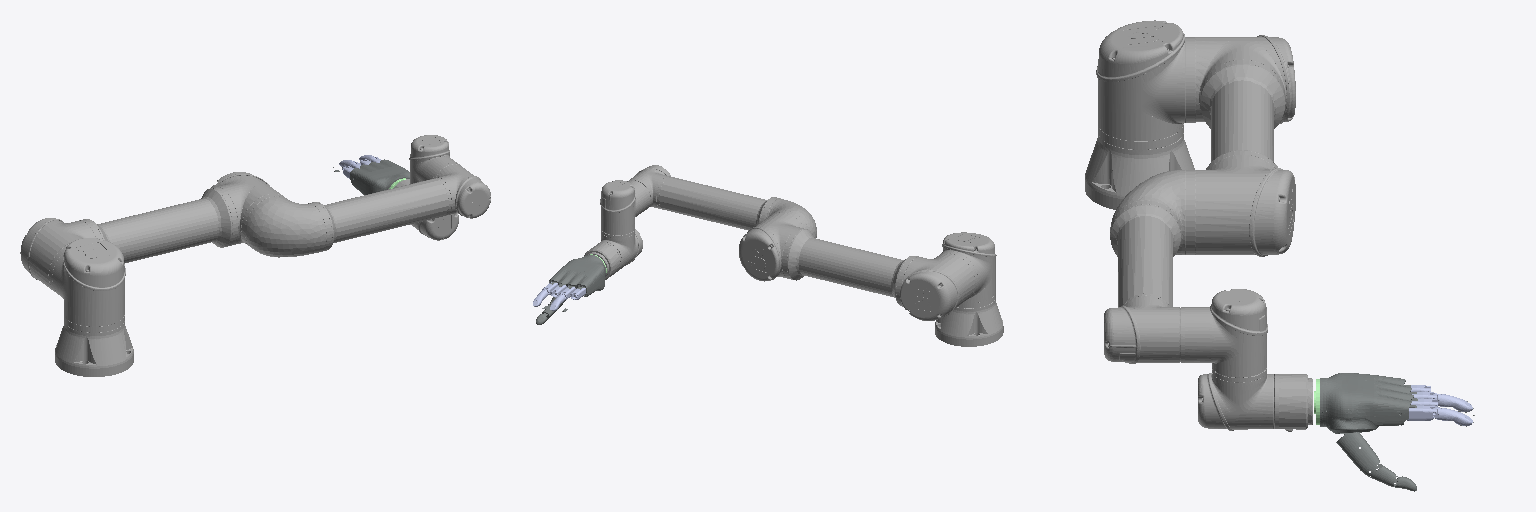
--- Render facts (derived) ---
3 views of the same robot in one strip: view 1: azimuth 30°, elevation 25°; view 2: azimuth 150°, elevation 25°; view 3: azimuth 270°, elevation 25° (orthographic).
Model ur5e with 36 links and 35 joints (16 revolute, 19 fixed), rooted at base_link, posed every joint at zero.
Visible links, largest first — view 1: forearm_link, upper_arm_link, shoulder_link, base_link, wrist_1_link, l_p_link1, wrist_2_link; view 2: upper_arm_link, forearm_link, base_link, wrist_1_link, shoulder_link, l_p_link1, wrist_2_link, wrist_3_link; view 3: upper_arm_link, forearm_link, shoulder_link, wrist_1_link, base_link, l_p_link1, wrist_2_link, wrist_3_link, l_f_link1_2.
Link boxes in pixels (x1,y1,x2,y2): forearm_link: (245, 163, 490, 257); upper_arm_link: (20, 172, 286, 291); shoulder_link: (49, 238, 125, 325); base_link: (55, 315, 133, 376); wrist_1_link: (409, 135, 459, 183); l_p_link1: (350, 159, 409, 194); wrist_2_link: (410, 213, 458, 240); upper_arm_link: (739, 210, 974, 320); forearm_link: (627, 165, 816, 237); base_link: (935, 292, 1003, 346); wrist_1_link: (600, 180, 648, 237); shoulder_link: (940, 232, 996, 302); l_p_link1: (549, 255, 605, 296); wrist_2_link: (598, 229, 642, 271); wrist_3_link: (584, 243, 620, 279); upper_arm_link: (1185, 35, 1295, 256); forearm_link: (1104, 170, 1184, 363); shoulder_link: (1096, 20, 1195, 140); wrist_1_link: (1185, 289, 1267, 382); base_link: (1085, 124, 1194, 209); l_p_link1: (1320, 373, 1413, 433); wrist_2_link: (1198, 373, 1278, 430); wrist_3_link: (1279, 374, 1312, 431); l_f_link1_2: (1336, 432, 1381, 476).
Size in the robot's own frame: 0.9663 by 0.5275 by 0.2739 metres.
Meshes: 35 distinct files referenced, 33 mesh visuals loaded (26 binary STL, 7 OBJ); not drawn: 2 (reference not matched to a file when rendering).

URDF robot description (ur5e):
<?xml version="1.0" encoding="utf-8"?>
<!-- =================================================================================== -->
<!-- |    This document was autogenerated by xacro from ur5e_robot.urdf.xacro          | -->
<!-- |    EDITING THIS FILE BY HAND IS NOT RECOMMENDED                                 | -->
<!-- =================================================================================== -->
<robot name="ur5e" xmlns:xacro="http://ros.org/wiki/xacro">
  <link name="base_link">
    <visual>
      <geometry>
        <mesh filename="../meshes/ur5e/visual/base.obj"/>
      </geometry>
      <material name="LightGrey">
        <color rgba="0.7 0.7 0.7 1.0"/>
      </material>
    </visual>
    <collision>
      <geometry>
        <mesh filename="../meshes/ur5e/collision/base.stl" scale="1.0 1.0 1.0"/>
      </geometry>
    </collision>
    <inertial>
      <mass value="4.0"/>
      <origin rpy="0 0 0" xyz="0.0 0.0 0.0"/>
      <inertia ixx="0.00443333156" ixy="0.0" ixz="0.0" iyy="0.00443333156" iyz="0.0" izz="0.0072"/>
    </inertial>
  </link>
  <joint name="shoulder_pan_joint" type="revolute">
    <parent link="base_link"/>
    <child link="shoulder_link"/>
    <origin rpy="0.0 0.0 0.0" xyz="0.0 0.0 0.163"/>
    <axis xyz="0 0 1"/>
    <limit effort="150.0" lower="-6.28318530718" upper="6.28318530718" velocity="3.14"/>
    <dynamics damping="0.0" friction="0.0"/>
  </joint>
  <link name="shoulder_link">
    <visual>
      <geometry>
        <mesh filename="../meshes/ur5e/visual/shoulder.obj"/>
      </geometry>
      <material name="LightGrey">
        <color rgba="0.7 0.7 0.7 1.0"/>
      </material>
    </visual>
    <collision>
      <geometry>
        <mesh filename="../meshes/ur5e/collision/shoulder.stl" scale="1.0 1.0 1.0"/>
      </geometry>
    </collision>
    <inertial>
      <mass value="3.7"/>
      <origin rpy="0 0 0" xyz="0.0 0.0 0.0"/>
      <inertia ixx="0.010267495893" ixy="0.0" ixz="0.0" iyy="0.010267495893" iyz="0.0" izz="0.00666"/>
    </inertial>
  </link>
  <joint name="shoulder_lift_joint" type="revolute">
    <parent link="shoulder_link"/>
    <child link="upper_arm_link"/>
    <origin rpy="0.0 1.57079632679 0.0" xyz="0.0 0.138 0.0"/>
    <axis xyz="0 1 0"/>
    <limit effort="150.0" lower="-6.28318530718" upper="6.28318530718" velocity="3.14"/>
    <dynamics damping="0.0" friction="0.0"/>
  </joint>
  <link name="upper_arm_link">
    <visual>
      <geometry>
        <mesh filename="../meshes/ur5e/visual/upperarm.obj"/>
      </geometry>
      <material name="LightGrey">
        <color rgba="0.7 0.7 0.7 1.0"/>
      </material>
    </visual>
    <collision>
      <geometry>
        <mesh filename="../meshes/ur5e/collision/upperarm.stl" scale="1.0 1.0 1.0"/>
      </geometry>
    </collision>
    <inertial>
      <mass value="8.393"/>
      <origin rpy="0 0 0" xyz="0.0 0.0 0.2125"/>
      <inertia ixx="0.133885781862" ixy="0.0" ixz="0.0" iyy="0.133885781862" iyz="0.0" izz="0.0151074"/>
    </inertial>
  </link>
  <joint name="elbow_joint" type="revolute">
    <parent link="upper_arm_link"/>
    <child link="forearm_link"/>
    <origin rpy="0.0 0.0 0.0" xyz="0.0 -0.131 0.425"/>
    <axis xyz="0 1 0"/>
    <limit effort="150.0" lower="-3.14159265359" upper="3.14159265359" velocity="3.14"/>
    <dynamics damping="0.0" friction="0.0"/>
  </joint>
  <link name="forearm_link">
    <visual>
      <geometry>
        <mesh filename="../meshes/ur5e/visual/forearm.obj"/>
      </geometry>
      <material name="LightGrey">
        <color rgba="0.7 0.7 0.7 1.0"/>
      </material>
    </visual>
    <collision>
      <geometry>
        <mesh filename="../meshes/ur5e/collision/forearm.stl" scale="1.0 1.0 1.0"/>
      </geometry>
    </collision>
    <inertial>
      <mass value="2.275"/>
      <origin rpy="0 0 0" xyz="0.0 0.0 0.196"/>
      <inertia ixx="0.0311796208615" ixy="0.0" ixz="0.0" iyy="0.0311796208615" iyz="0.0" izz="0.004095"/>
    </inertial>
  </link>
  <joint name="wrist_1_joint" type="revolute">
    <parent link="forearm_link"/>
    <child link="wrist_1_link"/>
    <origin rpy="0.0 1.57079632679 0.0" xyz="0.0 0.0 0.392"/>
    <axis xyz="0 1 0"/>
    <limit effort="28.0" lower="-6.28318530718" upper="6.28318530718" velocity="6.28"/>
    <dynamics damping="0.0" friction="0.0"/>
  </joint>
  <link name="wrist_1_link">
    <visual>
      <geometry>
        <mesh filename="../meshes/ur5e/visual/wrist1.obj"/>
      </geometry>
      <material name="LightGrey">
        <color rgba="0.7 0.7 0.7 1.0"/>
      </material>
    </visual>
    <collision>
      <geometry>
        <mesh filename="../meshes/ur5e/collision/wrist1.stl" scale="1.0 1.0 1.0"/>
      </geometry>
    </collision>
    <inertial>
      <mass value="1.219"/>
      <origin rpy="0 0 0" xyz="0.0 0.127 0.0"/>
      <inertia ixx="0.00255989897604" ixy="0.0" ixz="0.0" iyy="0.00255989897604" iyz="0.0" izz="0.0021942"/>
    </inertial>
  </link>
  <joint name="wrist_2_joint" type="revolute">
    <parent link="wrist_1_link"/>
    <child link="wrist_2_link"/>
    <origin rpy="0.0 0.0 0.0" xyz="0.0 0.127 0.0"/>
    <axis xyz="0 0 1"/>
    <limit effort="28.0" lower="-6.28318530718" upper="6.28318530718" velocity="6.28"/>
    <dynamics damping="0.0" friction="0.0"/>
  </joint>
  <link name="wrist_2_link">
    <visual>
      <geometry>
        <mesh filename="../meshes/ur5e/visual/wrist2.obj"/>
      </geometry>
      <material name="LightGrey">
        <color rgba="0.7 0.7 0.7 1.0"/>
      </material>
    </visual>
    <collision>
      <geometry>
        <mesh filename="../meshes/ur5e/collision/wrist2.stl" scale="1.0 1.0 1.0"/>
      </geometry>
    </collision>
    <inertial>
      <mass value="1.219"/>
      <origin rpy="0 0 0" xyz="0.0 0.0 0.1"/>
      <inertia ixx="0.00255989897604" ixy="0.0" ixz="0.0" iyy="0.00255989897604" iyz="0.0" izz="0.0021942"/>
    </inertial>
  </link>
  <joint name="wrist_3_joint" type="revolute">
    <parent link="wrist_2_link"/>
    <child link="wrist_3_link"/>
    <origin rpy="0.0 0.0 0.0" xyz="0.0 0.0 0.1"/>
    <axis xyz="0 1 0"/>
    <limit effort="28.0" lower="-6.28318530718" upper="6.28318530718" velocity="6.28"/>
    <dynamics damping="0.0" friction="0.0"/>
  </joint>
  <link name="wrist_3_link">
    <visual>
      <geometry>
        <mesh filename="../meshes/ur5e/visual/wrist3.obj"/>
      </geometry>
      <material name="LightGrey">
        <color rgba="0.7 0.7 0.7 1.0"/>
      </material>
    </visual>
    <collision>
      <geometry>
        <mesh filename="../meshes/ur5e/collision/wrist3.stl" scale="1.0 1.0 1.0"/>
      </geometry>
    </collision>
    <inertial>
      <mass value="0.1879"/>
      <origin rpy="1.57079632679 0 0" xyz="0.0 0.0771 0.0"/>
      <inertia ixx="9.89041005217e-05" ixy="0.0" ixz="0.0" iyy="9.89041005217e-05" iyz="0.0" izz="0.0001321171875"/>
    </inertial>
  </link>
  <joint name="catch_joint" type="fixed">
    <parent link="wrist_3_link"/>
    <child link="catch_link"/>
    <origin rpy="-1.5708 -1.5708 0.0" xyz="-0.035 0.28 0.05"/>
  </joint>
  <link
    name="catch_link">
    <inertial>
      <origin
        xyz="1.72456640981644E-10 0.000159743547726118 0.08240409197629"
        rpy="0 0 0" />
      <mass
        value="0.0" />
      <inertia
        ixx="4.77814014865034E-06"
        ixy="-2.82870930251957E-15"
        ixz="-1.75792865858176E-14"
        iyy="4.84927762663746E-06"
        iyz="4.47414433687867E-09"
        izz="9.23717647630549E-06" />
    </inertial>
  </link>
  <joint name="ee_fixed_joint" type="fixed">
    <parent link="wrist_3_link"/>
    <child link="base_world"/>
    <origin rpy="-1.5708 -1.5708 0.0" xyz="0.0 0.1 0.0"/>
  </joint>
  <link
    name="base_world">
    <inertial>
      <origin
        xyz="1.72456640981644E-10 0.000159743547726118 0.00658240409197629"
        rpy="0 0 0" />
      <mass
        value="0.0176998254464378" />
      <inertia
        ixx="4.77814014865034E-06"
        ixy="-2.82870930251957E-15"
        ixz="-1.75792865858176E-14"
        iyy="4.84927762663746E-06"
        iyz="4.47414433687867E-09"
        izz="9.23717647630549E-06" />
    </inertial>
    <visual>
      <origin
        xyz="0 0 0"
        rpy="0 0 0" />
      <geometry>
        <mesh
          filename="../meshes/freedom_left_hand/base_world.STL" />
      </geometry>
      <material
        name="">
        <color
          rgba="0.752941176470588 1 0.752941176470588 1" />
      </material>
    </visual>
    <collision>
      <origin
        xyz="0 0 0"
        rpy="0 0 0" />
      <geometry>
        <mesh
          filename="../meshes/freedom_left_hand/base_world.STL" />
      </geometry>
    </collision>
  </link>
  <link
    name="l_p_link1">
    <inertial>
      <origin
        xyz="-0.000806915097913388 0.00388610492410939 0.0525721443149127"
        rpy="0 0 0" />
      <mass
        value="3.09350498276967" />
      <inertia
        ixx="0.00483124658716066"
        ixy="-0.000120079243986953"
        ixz="2.76998390224128E-05"
        iyy="0.00363360625607334"
        iyz="0.000130624066350774"
        izz="0.00244702121244642" />
    </inertial>
    <visual>
      <origin
        xyz="0 0 0"
        rpy="0 0 0" />
      <geometry>
        <mesh
          filename="../meshes/freedom_left_hand/l_p_link1.STL" />
      </geometry>
      <material
        name="">
        <color
          rgba="0.529411764705882 0.549019607843137 0.549019607843137 1" />
      </material>
    </visual>
    <collision>
      <origin
        xyz="0 0 0"
        rpy="0 0 0" />
      <geometry>
        <mesh
          filename="../meshes/freedom_left_hand/l_p_link1.STL" />
      </geometry>
    </collision>
  </link>
  <joint
    name="l_p_joint1"
    type="fixed">
    <origin
      xyz="0 0 0.009"
      rpy="0 0 0" />
    <parent
      link="base_world" />
    <child
      link="l_p_link1" />
    <axis
      xyz="0 0 0" />
  </joint>
  <link
    name="l_f_link1_1">
    <inertial>
      <origin
        xyz="0.00145106596791297 0.000219748765094941 -0.00094878677214999"
        rpy="0 0 0" />
      <mass
        value="0.022937939198734" />
      <inertia
        ixx="1.34683615212935E-06"
        ixy="-2.07746757263643E-08"
        ixz="7.89788135056471E-08"
        iyy="1.55245542916721E-06"
        iyz="2.67848642354461E-08"
        izz="1.39334328734015E-06" />
    </inertial>
    <visual>
      <origin
        xyz="0 0 0"
        rpy="0 0 0" />
      <geometry>
        <mesh
          filename="../meshes/freedom_left_hand/l_f_link1_1.STL" />
      </geometry>
      <material
        name="">
        <color
          rgba="0.529411764705882 0.549019607843137 0.549019607843137 1" />
      </material>
    </visual>
    <collision>
      <origin
        xyz="0 0 0"
        rpy="0 0 0" />
      <geometry>
        <mesh
          filename="../meshes/freedom_left_hand/l_f_link1_1.STL" />
      </geometry>
    </collision>
  </link>
  <joint
    name="l_f_joint_1"
    type="revolute">
    <origin
      xyz="0.0019629 -0.02666 0.037173"
      rpy="-1.571 0.029 0" />
    <parent
      link="l_p_link1" />
    <child
      link="l_f_link1_1" />
    <axis
      xyz="0 0 -1" />
    <limit
      lower="-0.4363"
      upper="0.43663"
      effort="10"
      velocity="1.5" />
  </joint>
  <link
    name="l_f_link1_2">
    <inertial>
      <origin
        xyz="-0.0368460622630162 0.017183676037241 0.0161136820216997"
        rpy="0 0 0" />
      <mass
        value="0.345446868480597" />
      <inertia
        ixx="8.74993953311003E-05"
        ixy="2.80158941029215E-05"
        ixz="4.42492535344589E-05"
        iyy="0.000134460477920373"
        iyz="-2.06512048636184E-05"
        izz="0.00010376701557648" />
    </inertial>
    <visual>
      <origin
        xyz="0 0 0"
        rpy="0 0 0" />
      <geometry>
        <mesh
          filename="../meshes/freedom_left_hand/l_f_link1_2.STL" />
      </geometry>
      <material
        name="">
        <color
          rgba="0.529411764705882 0.549019607843137 0.549019607843137 1" />
      </material>
    </visual>
    <collision>
      <origin
        xyz="0 0 0"
        rpy="0 0 0" />
      <geometry>
        <mesh
          filename="../meshes/freedom_left_hand/l_f_link1_2.STL" />
      </geometry>
    </collision>
  </link>
  <joint
    name="l_f_joint1_2"
    type="revolute">
    <origin
      xyz="0.010999 0 -0.001747"
      rpy="-1.5711 0 -3.1415" />
    <parent
      link="l_f_link1_1" />
    <child
      link="l_f_link1_2" />
    <axis
      xyz="0 0 1" />
    <limit
      lower="0"
      upper="1.3786"
      effort="10"
      velocity="1.5" />
  </joint>
  <link
    name="l_f_link1_3">
    <inertial>
      <origin
        xyz="0.0131235626729575 -0.00699500868701408 -8.9237181345736E-08"
        rpy="0 0 0" />
      <mass
        value="0.078728188790909" />
      <inertia
        ixx="4.50755666538291E-06"
        ixy="-6.41444224863096E-07"
        ixz="1.82882144130032E-11"
        iyy="7.81737857211279E-06"
        iyz="1.40812459242875E-10"
        izz="7.87618818286551E-06" />
    </inertial>
    <visual>
      <origin
        xyz="0 0 0"
        rpy="0 0 0" />
      <geometry>
        <mesh
          filename="../meshes/freedom_left_hand/l_f_link1_3.STL" />
      </geometry>
      <material
        name="">
        <color
          rgba="0.529411764705882 0.549019607843137 0.549019607843137 1" />
      </material>
    </visual>
    <collision>
      <origin
        xyz="0 0 0"
        rpy="0 0 0" />
      <geometry>
        <mesh
          filename="../meshes/freedom_left_hand/l_f_link1_3.STL" />
      </geometry>
    </collision>
  </link>
  <joint
    name="l_f_joint1_3"
    type="revolute">
    <origin
      xyz="-0.055719 0.025991 0.045109"
      rpy="1.5705 -0.97818 2.705" />
    <parent
      link="l_f_link1_2" />
    <child
      link="l_f_link1_3" />
    <axis
      xyz="0 0 1" />
    <limit
      lower="0"
      upper="0.4537"
      effort="10"
      velocity="1.5" />
  </joint>
  <link
    name="l_f_link1_4">
    <inertial>
      <origin
        xyz="0.013033720128292 0.00392465793829972 4.5317859458105E-08"
        rpy="0 0 0" />
      <mass
        value="0.0492559673669118" />
      <inertia
        ixx="1.83221779789421E-06"
        ixy="-2.9201248351923E-08"
        ixz="-2.11636247722758E-11"
        iyy="4.14827455404067E-06"
        iyz="1.82172753188615E-12"
        izz="3.86182594285045E-06" />
    </inertial>
    <visual>
      <origin
        xyz="0 0 0"
        rpy="0 0 0" />
      <geometry>
        <mesh
          filename="../meshes/freedom_left_hand/l_f_link1_4.STL" />
      </geometry>
      <material
        name="">
        <color
          rgba="0.529411764705882 0.549019607843137 0.549019607843137 1" />
      </material>
    </visual>
    <collision>
      <origin
        xyz="0 0 0"
        rpy="0 0 0" />
      <geometry>
        <mesh
          filename="../meshes/freedom_left_hand/l_f_link1_4.STL" />
      </geometry>
    </collision>
  </link>
  <joint
    name="l_f_joint1_4"
    type="revolute">
    <origin
      xyz="0.030304 -0.0075957 0"
      rpy="0 0 0.31426" />
    <parent
      link="l_f_link1_3" />
    <child
      link="l_f_link1_4" />
    <axis
      xyz="0 0 1" />
    <limit
      lower="0"
      upper="1.2564"
      effort="10"
      velocity="1.5" />
  </joint>
  <link
    name="l_f_link1_tip">
    <inertial>
      <origin
        xyz="3.91226984142179E-09 1.70995220066805E-09 -1.01224686965828E-09"
        rpy="0 0 0" />
      <mass
        value="5.6447341057417E-05" />
      <inertia
        ixx="3.25134583690636E-11"
        ixy="-1.5841832868675E-16"
        ixz="-1.07509600156021E-15"
        iyy="3.25128233421681E-11"
        iyz="4.30353188750191E-16"
        izz="3.25146782213451E-11" />
    </inertial>
    <visual>
      <origin
        xyz="0 0 0"
        rpy="0 0 0" />
      <geometry>
        <mesh
          filename="../meshes/freedom_left_hand/l_f_link1_tip.STL" />
      </geometry>
      <material
        name="">
        <color
          rgba="0.529411764705882 0.549019607843137 0.549019607843137 1" />
      </material>
    </visual>
    <collision>
      <origin
        xyz="0 0 0"
        rpy="0 0 0" />
      <geometry>
        <mesh
          filename="../meshes/freedom_left_hand/l_f_link1_tip.STL" />
      </geometry>
    </collision>
  </link>
  <joint
    name="l_f_joint1_tip"
    type="fixed">
    <origin
      xyz="0.030638 0 0"
      rpy="0 0 0" />
    <parent
      link="l_f_link1_4" />
    <child
      link="l_f_link1_tip" />
    <axis
      xyz="0 0 0" />
  </joint>
  <link
    name="l_f_link1_pad">
    <inertial>
      <origin
        xyz="1.66533453693773E-16 5.55111512312578E-17 -2.77555756156289E-17"
        rpy="0 0 0" />
      <mass
        value="0.000748799999999945" />
      <inertia
        ixx="4.05599999999982E-09"
        ixy="2.54358038360056E-22"
        ixz="5.11818004017186E-23"
        iyy="1.29791999999998E-08"
        iyz="1.00709239578331E-22"
        izz="9.04800000000008E-09" />
    </inertial>
    <visual>
      <origin
        xyz="0 0 0"
        rpy="0 0 0" />
      <geometry>
        <mesh
          filename="../meshes/freedom_left_hand/l_f_link1_pad.STL" />
      </geometry>
      <material
        name="">
        <color
          rgba="0.529411764705882 0.549019607843137 0.549019607843137 1" />
      </material>
    </visual>
    <collision>
      <origin
        xyz="0 0 0"
        rpy="0 0 0" />
      <geometry>
        <mesh
          filename="../meshes/freedom_left_hand/l_f_link1_pad.STL" />
      </geometry>
    </collision>
  </link>
  <joint
    name="l_f_joint1_pad"
    type="fixed">
    <origin
      xyz="0.02058 0.010335 0"
      rpy="0 0 -0.36591" />
    <parent
      link="l_f_link1_4" />
    <child
      link="l_f_link1_pad" />
    <axis
      xyz="0 0 0" />
  </joint>
  <link
    name="l_f_link2_1">
    <inertial>
      <origin
        xyz="0.00431549531692989 -3.59544548608464E-05 -0.000293519581500933"
        rpy="0 0 0" />
      <mass
        value="0.01220067525638" />
      <inertia
        ixx="1.76157556392802E-07"
        ixy="-1.18013880311547E-11"
        ixz="5.1258189712677E-08"
        iyy="6.86901221323969E-07"
        iyz="-5.70496565074483E-13"
        izz="6.04592917607103E-07" />
    </inertial>
    <visual>
      <origin
        xyz="0 0 0"
        rpy="0 0 0" />
      <geometry>
        <mesh
          filename="../meshes/freedom_left_hand/l_f_link2_1.STL" />
      </geometry>
      <material
        name="">
        <color
          rgba="0.529411764705882 0.549019607843137 0.549019607843137 1" />
      </material>
    </visual>
    <collision>
      <origin
        xyz="0 0 0"
        rpy="0 0 0" />
      <geometry>
        <mesh
          filename="../meshes/freedom_left_hand/l_f_link2_1.STL" />
      </geometry>
    </collision>
  </link>
  <joint
    name="l_f_joint2_1"
    type="revolute">
    <origin
      xyz="-0.0011606 -0.030771 0.11518"
      rpy="-0.67227 -1.5707 -2.4693" />
    <parent
      link="l_p_link1" />
    <child
      link="l_f_link2_1" />
    <axis
      xyz="0 0 1" />
    <limit
      lower="-0.1745"
      upper="0.1745"
      effort="10"
      velocity="1.5" />
  </joint>
  <link
    name="l_f_link2_2">
    <inertial>
      <origin
        xyz="0.0104118354940775 0.000536686610706071 -1.76713780573878E-07"
        rpy="0 0 0" />
      <mass
        value="0.0784310054996294" />
      <inertia
        ixx="3.68968904398342E-06"
        ixy="3.62846908121159E-07"
        ixz="2.16090077469993E-10"
        iyy="1.11655087077363E-05"
        iyz="-8.17126072188099E-11"
        izz="1.1188037862303E-05" />
    </inertial>
    <visual>
      <origin
        xyz="0 0 0"
        rpy="0 0 0" />
      <geometry>
        <mesh
          filename="../meshes/freedom_left_hand/l_f_link2_2.STL" />
      </geometry>
      <material
        name="">
        <color
          rgba="0.792156862745098 0.819607843137255 0.933333333333333 1" />
      </material>
    </visual>
    <collision>
      <origin
        xyz="0 0 0"
        rpy="0 0 0" />
      <geometry>
        <mesh
          filename="../meshes/freedom_left_hand/l_f_link2_2.STL" />
      </geometry>
    </collision>
  </link>
  <joint
    name="l_f_joint2_2"
    type="revolute">
    <origin
      xyz="0.007 0 0.0021"
      rpy="1.5708 0 0" />
    <parent
      link="l_f_link2_1" />
    <child
      link="l_f_link2_2" />
    <axis
      xyz="0 0 1" />
    <limit
      lower="0"
      upper="1.396"
      effort="10"
      velocity="1.5" />
  </joint>
  <link
    name="l_f_link2_3">
    <inertial>
      <origin
        xyz="0.025404689382244 -0.00109883030595305 -1.01316054048955E-05"
        rpy="0 0 0" />
      <mass
        value="0.0416865010250188" />
      <inertia
        ixx="1.97988408622401E-06"
        ixy="2.09083172696518E-06"
        ixz="-5.69823390084998E-09"
        iyy="1.00738033109099E-05"
        iyz="1.73153963015829E-09"
        izz="1.02474545462262E-05" />
    </inertial>
    <visual>
      <origin
        xyz="0 0 0"
        rpy="0 0 0" />
      <geometry>
        <mesh
          filename="../meshes/freedom_left_hand/l_f_link2_3.STL" />
      </geometry>
      <material
        name="">
        <color
          rgba="0.792156862745098 0.819607843137255 0.933333333333333 1" />
      </material>
    </visual>
    <collision>
      <origin
        xyz="0 0 0"
        rpy="0 0 0" />
      <geometry>
        <mesh
          filename="../meshes/freedom_left_hand/l_f_link2_3.STL" />
      </geometry>
    </collision>
  </link>
  <joint
    name="l_f_joint2_3"
    type="revolute">
    <origin
      xyz="0.032003 -0.0025 0"
      rpy="0 0 0.41015" />
    <parent
      link="l_f_link2_2" />
    <child
      link="l_f_link2_3" />
    <axis
      xyz="0 0 1" />
    <limit
      lower="0"
      upper="1.204"
      effort="10"
      velocity="1.5" />
  </joint>
  <link
    name="l_f_link2_tip">
    <inertial>
      <origin
        xyz="0.0452244833923307 0.110484490001511 0.00293860794572562"
        rpy="0 0 0" />
      <mass
        value="5.6447341057416E-05" />
      <inertia
        ixx="3.25129638536437E-11"
        ixy="3.8289381727335E-16"
        ixz="2.73941092259011E-16"
        iyy="3.25143730607903E-11"
        iyz="1.24937363097556E-15"
        izz="3.25136661866213E-11" />
    </inertial>
    <visual>
      <origin
        xyz="0 0 0"
        rpy="0 0 0" />
      <geometry>
        <mesh
          filename="../meshes/freedom_left_hand/l_f_link2_tip.STL" />
      </geometry>
      <material
        name="">
        <color
          rgba="0.529411764705882 0.549019607843137 0.549019607843137 1" />
      </material>
    </visual>
    <collision>
      <origin
        xyz="0 0 0"
        rpy="0 0 0" />
      <geometry>
        <mesh
          filename="../meshes/freedom_left_hand/l_f_link2_tip.STL" />
      </geometry>
    </collision>
  </link>
  <joint
    name="l_f_joint2_tip"
    type="fixed">
    <origin
      xyz="0.018194 0.10294 -0.037012"
      rpy="2.7196 0.1164 -0.12757" />
    <parent
      link="l_f_link2_3" />
    <child
      link="l_f_link2_tip" />
    <axis
      xyz="0 0 0" />
  </joint>
  <link
    name="l_f_link2_pad">
    <inertial>
      <origin
        xyz="1.38777878078145E-16 3.81639164714898E-17 -5.20417042793042E-18"
        rpy="0 0 0" />
      <mass
        value="0.000748799999999951" />
      <inertia
        ixx="4.05599999999972E-09"
        ixy="-3.4638188150658E-24"
        ixz="2.60044905071358E-23"
        iyy="1.29791999999987E-08"
        iyz="-9.92616735063633E-24"
        izz="9.04799999999891E-09" />
    </inertial>
    <visual>
      <origin
        xyz="0 0 0"
        rpy="0 0 0" />
      <geometry>
        <mesh
          filename="../meshes/freedom_left_hand/l_f_link2_pad.STL" />
      </geometry>
      <material
        name="">
        <color
          rgba="0.529411764705882 0.549019607843137 0.549019607843137 1" />
      </material>
    </visual>
    <collision>
      <origin
        xyz="0 0 0"
        rpy="0 0 0" />
      <geometry>
        <mesh
          filename="../meshes/freedom_left_hand/l_f_link2_pad.STL" />
      </geometry>
    </collision>
  </link>
  <joint
    name="l_f_joint2_pad"
    type="fixed">
    <origin
      xyz="0.0431768806103101 0.00346826424137609 1.9226932202532E-05"
      rpy="0 0 -0.24108798729853" />
    <parent
      link="l_f_link2_3" />
    <child
      link="l_f_link2_pad" />
    <axis
      xyz="0 0 0" />
  </joint>
  <link
    name="l_f_link3_1">
    <inertial>
      <origin
        xyz="0.00431549531692993 -3.59544548608516E-05 -0.000293519581500951"
        rpy="0 0 0" />
      <mass
        value="0.01220067525638" />
      <inertia
        ixx="1.76157556392802E-07"
        ixy="-1.18013880316022E-11"
        ixz="5.12581897126789E-08"
        iyy="6.86901221323972E-07"
        iyz="-5.70496565180362E-13"
        izz="6.04592917607106E-07" />
    </inertial>
    <visual>
      <origin
        xyz="0 0 0"
        rpy="0 0 0" />
      <geometry>
        <mesh
          filename="../meshes/freedom_left_hand/l_f_link3_1.STL" />
      </geometry>
      <material
        name="">
        <color
          rgba="0.529411764705882 0.549019607843137 0.549019607843137 1" />
      </material>
    </visual>
    <collision>
      <origin
        xyz="0 0 0"
        rpy="0 0 0" />
      <geometry>
        <mesh
          filename="../meshes/freedom_left_hand/l_f_link3_1.STL" />
      </geometry>
    </collision>
  </link>
  <joint
    name="l_f_joint3_1"
    type="revolute">
    <origin
      xyz="-0.0011607 -0.0087207 0.11685"
      rpy="-0.67227 -1.5707 -2.4693" />
    <parent
      link="l_p_link1" />
    <child
      link="l_f_link3_1" />
    <axis
      xyz="0 0 1" />
    <limit
      lower="-0.1745"
      upper="0.1745"
      effort="10"
      velocity="1.5" />
  </joint>
  <link
    name="l_f_link3_2">
    <inertial>
      <origin
        xyz="0.010411835494077 0.000536686610706187 -1.76713780653676E-07"
        rpy="0 0 0" />
      <mass
        value="0.0784310054996272" />
      <inertia
        ixx="3.68968904398335E-06"
        ixy="3.62846908120986E-07"
        ixz="2.16090077595063E-10"
        iyy="1.11655087077355E-05"
        iyz="-8.171260723448E-11"
        izz="1.11880378623021E-05" />
    </inertial>
    <visual>
      <origin
        xyz="0 0 0"
        rpy="0 0 0" />
      <geometry>
        <mesh
          filename="../meshes/freedom_left_hand/l_f_link3_2.STL" />
      </geometry>
      <material
        name="">
        <color
          rgba="0.792156862745098 0.819607843137255 0.933333333333333 1" />
      </material>
    </visual>
    <collision>
      <origin
        xyz="0 0 0"
        rpy="0 0 0" />
      <geometry>
        <mesh
          filename="../meshes/freedom_left_hand/l_f_link3_2.STL" />
      </geometry>
    </collision>
  </link>
  <joint
    name="l_f_joint3_2"
    type="revolute">
    <origin
      xyz="0.007 0 0.0021"
      rpy="1.5708 0 0" />
    <parent
      link="l_f_link3_1" />
    <child
      link="l_f_link3_2" />
    <axis
      xyz="0 0 1" />
    <limit
      lower="0"
      upper="1.396"
      effort="10"
      velocity="1.5" />
  </joint>
  <link
    name="l_f_link3_3">
    <inertial>
      <origin
        xyz="0.025404499507523 -0.0010985839475919 -1.00898087224272E-05"
        rpy="0 0 0" />
      <mass
        value="0.0416860671235266" />
      <inertia
        ixx="1.97985984534454E-06"
        ixy="2.09080814722245E-06"
        ixz="-5.67363921634989E-09"
        iyy="1.00738960204226E-05"
        iyz="1.70737051604018E-09"
        izz="1.02474421944146E-05" />
    </inertial>
    <visual>
      <origin
        xyz="0 0 0"
        rpy="0 0 0" />
      <geometry>
        <mesh
          filename="../meshes/freedom_left_hand/l_f_link3_3.STL" />
      </geometry>
      <material
        name="">
        <color
          rgba="0.792156862745098 0.819607843137255 0.933333333333333 1" />
      </material>
    </visual>
    <collision>
      <origin
        xyz="0 0 0"
        rpy="0 0 0" />
      <geometry>
        <mesh
          filename="../meshes/freedom_left_hand/l_f_link3_3.STL" />
      </geometry>
    </collision>
  </link>
  <joint
    name="l_f_joint3_3"
    type="revolute">
    <origin
      xyz="0.032003 -0.0025 0"
      rpy="0 0 0.41015" />
    <parent
      link="l_f_link3_2" />
    <child
      link="l_f_link3_3" />
    <axis
      xyz="0 0 1" />
    <limit
      lower="0"
      upper="1.204"
      effort="10"
      velocity="1.5" />
  </joint>
  <link
    name="l_f_link3_tip">
    <inertial>
      <origin
        xyz="-2.69951164200144E-08 -2.10908379649766E-09 5.39488918815945E-10"
        rpy="0 0 0" />
      <mass
        value="5.64473410574171E-05" />
      <inertia
        ixx="3.25128781384403E-11"
        ixy="-9.63510103474837E-17"
        ixz="-2.43875542347979E-17"
        iyy="3.25152508484689E-11"
        iyz="6.24021630882816E-16"
        izz="3.25128741141497E-11" />
    </inertial>
    <visual>
      <origin
        xyz="0 0 0"
        rpy="0 0 0" />
      <geometry>
        <mesh
          filename="../meshes/freedom_left_hand/l_f_link3_tip.STL" />
      </geometry>
      <material
        name="">
        <color
          rgba="0.529411764705882 0.549019607843137 0.549019607843137 1" />
      </material>
    </visual>
    <collision>
      <origin
        xyz="0 0 0"
        rpy="0 0 0" />
      <geometry>
        <mesh
          filename="../meshes/freedom_left_hand/l_f_link3_tip.STL" />
      </geometry>
    </collision>
  </link>
  <joint
    name="l_f_joint3_tip"
    type="fixed">
    <origin
      xyz="0.054675 -0.004571 1.9227E-05"
      rpy="0 0 0" />
    <parent
      link="l_f_link3_3" />
    <child
      link="l_f_link3_tip" />
    <axis
      xyz="0 0 0" />
  </joint>
  <link
    name="l_f_link3_pad">
    <inertial>
      <origin
        xyz="1.38777878078145E-16 3.81639164714898E-17 -6.93889390390723E-18"
        rpy="0 0 0" />
      <mass
        value="0.000748799999999951" />
      <inertia
        ixx="4.05599999999973E-09"
        ixy="8.28085341348008E-23"
        ixz="2.83309359799412E-23"
        iyy="1.29791999999991E-08"
        iyz="-7.44462551297725E-24"
        izz="9.04799999999938E-09" />
    </inertial>
    <visual>
      <origin
        xyz="0 0 0"
        rpy="0 0 0" />
      <geometry>
        <mesh
          filename="../meshes/freedom_left_hand/l_f_link3_pad.STL" />
      </geometry>
      <material
        name="">
        <color
          rgba="0.529411764705882 0.549019607843137 0.549019607843137 1" />
      </material>
    </visual>
    <collision>
      <origin
        xyz="0 0 0"
        rpy="0 0 0" />
      <geometry>
        <mesh
          filename="../meshes/freedom_left_hand/l_f_link3_pad.STL" />
      </geometry>
    </collision>
  </link>
  <joint
    name="l_f_joint3_pad"
    type="fixed">
    <origin
      xyz="0.043177 0.0034683 1.9227E-05"
      rpy="0 0 -0.24109" />
    <parent
      link="l_f_link3_3" />
    <child
      link="l_f_link3_pad" />
    <axis
      xyz="0 0 0" />
  </joint>
  <link
    name="l_f_link4_1">
    <inertial>
      <origin
        xyz="0.00431549531692992 -3.5954454860862E-05 -0.000293519581500961"
        rpy="0 0 0" />
      <mass
        value="0.01220067525638" />
      <inertia
        ixx="1.76157556392802E-07"
        ixy="-1.1801388031455E-11"
        ixz="5.12581897126789E-08"
        iyy="6.86901221323973E-07"
        iyz="-5.70496565127423E-13"
        izz="6.04592917607107E-07" />
    </inertial>
    <visual>
      <origin
        xyz="0 0 0"
        rpy="0 0 0" />
      <geometry>
        <mesh
          filename="../meshes/freedom_left_hand/l_f_link4_1.STL" />
      </geometry>
      <material
        name="">
        <color
          rgba="0.529411764705882 0.549019607843137 0.549019607843137 1" />
      </material>
    </visual>
    <collision>
      <origin
        xyz="0 0 0"
        rpy="0 0 0" />
      <geometry>
        <mesh
          filename="../meshes/freedom_left_hand/l_f_link4_1.STL" />
      </geometry>
    </collision>
  </link>
  <joint
    name="l_f_joint4_1"
    type="fixed">
    <origin
      xyz="-0.0011606 0.013279 0.11513"
      rpy="-0.67227 -1.5707 -2.4693" />
    <parent
      link="l_p_link1" />
    <child
      link="l_f_link4_1" />
    <axis
      xyz="0 0 0" />
  </joint>
  <link
    name="l_f_link4_2">
    <inertial>
      <origin
        xyz="0.0104118354940766 0.000536686610706234 -1.76713780851434E-07"
        rpy="0 0 0" />
      <mass
        value="0.0784310054996255" />
      <inertia
        ixx="3.68968904398328E-06"
        ixy="3.62846908120933E-07"
        ixz="2.16090077851184E-10"
        iyy="1.11655087077349E-05"
        iyz="-8.17126072539617E-11"
        izz="1.11880378623016E-05" />
    </inertial>
    <visual>
      <origin
        xyz="0 0 0"
        rpy="0 0 0" />
      <geometry>
        <mesh
          filename="../meshes/freedom_left_hand/l_f_link4_2.STL" />
      </geometry>
      <material
        name="">
        <color
          rgba="0.792156862745098 0.819607843137255 0.933333333333333 1" />
      </material>
    </visual>
    <collision>
      <origin
        xyz="0 0 0"
        rpy="0 0 0" />
      <geometry>
        <mesh
          filename="../meshes/freedom_left_hand/l_f_link4_2.STL" />
      </geometry>
    </collision>
  </link>
  <joint
    name="l_f_joint4_2"
    type="fixed">
    <origin
      xyz="0.007 0 0.0021"
      rpy="1.5708 0 0" />
    <parent
      link="l_f_link4_1" />
    <child
      link="l_f_link4_2" />
    <axis
      xyz="0 0 1" />
    <limit
      lower="0"
      upper="1.396"
      effort="10"
      velocity="1.5" />
  </joint>
  <link
    name="l_f_link4_3">
    <inertial>
      <origin
        xyz="0.0254046743167515 -0.00109882812208015 -1.01447539501975E-05"
        rpy="0 0 0" />
      <mass
        value="0.0416864446947444" />
      <inertia
        ixx="1.97987951771862E-06"
        ixy="2.09083156270342E-06"
        ixz="-5.69653236819275E-09"
        iyy="1.00737985063769E-05"
        iyz="1.72901452754347E-09"
        izz="1.02474523549531E-05" />
    </inertial>
    <visual>
      <origin
        xyz="0 0 0"
        rpy="0 0 0" />
      <geometry>
        <mesh
          filename="../meshes/freedom_left_hand/l_f_link4_3.STL" />
      </geometry>
      <material
        name="">
        <color
          rgba="0.792156862745098 0.819607843137255 0.933333333333333 1" />
      </material>
    </visual>
    <collision>
      <origin
        xyz="0 0 0"
        rpy="0 0 0" />
      <geometry>
        <mesh
          filename="../meshes/freedom_left_hand/l_f_link4_3.STL" />
      </geometry>
    </collision>
  </link>
  <joint
    name="l_f_joint4_3"
    type="fixed">
    <origin
      xyz="0.032003 -0.0025 0"
      rpy="0 0 0.41015" />
    <parent
      link="l_f_link4_2" />
    <child
      link="l_f_link4_3" />
    <axis
      xyz="0 0 1" />
    <limit
      lower="0"
      upper="1.204"
      effort="10"
      velocity="1.5" />
  </joint>
  <link
    name="l_f_link4_tip">
    <inertial>
      <origin
        xyz="-2.69951164755255E-08 -2.10908378261987E-09 5.39488897999263E-10"
        rpy="0 0 0" />
      <mass
        value="5.64473410574209E-05" />
      <inertia
        ixx="3.25128781384429E-11"
        ixy="-9.63510103533402E-17"
        ixz="-2.43875542392407E-17"
        iyy="3.25152508484714E-11"
        iyz="6.24021630985406E-16"
        izz="3.25128741141522E-11" />
    </inertial>
    <visual>
      <origin
        xyz="0 0 0"
        rpy="0 0 0" />
      <geometry>
        <mesh
          filename="../meshes/freedom_left_hand/l_f_link4_tip.STL" />
      </geometry>
      <material
        name="">
        <color
          rgba="0.529411764705882 0.549019607843137 0.549019607843137 1" />
      </material>
    </visual>
    <collision>
      <origin
        xyz="0 0 0"
        rpy="0 0 0" />
      <geometry>
        <mesh
          filename="../meshes/freedom_left_hand/l_f_link4_tip.STL" />
      </geometry>
    </collision>
  </link>
  <joint
    name="l_f_joint4_tip"
    type="fixed">
    <origin
      xyz="0.054675 -0.004571 1.9227E-05"
      rpy="0 0 0" />
    <parent
      link="l_f_link4_3" />
    <child
      link="l_f_link4_tip" />
    <axis
      xyz="0 0 0" />
  </joint>
  <link
    name="l_f_link4_pad">
    <inertial>
      <origin
        xyz="1.11022302462516E-16 4.5102810375397E-17 6.93889390390723E-18"
        rpy="0 0 0" />
      <mass
        value="0.000748799999999948" />
      <inertia
        ixx="4.05599999999972E-09"
        ixy="1.86516303433637E-22"
        ixz="-2.79690444619492E-23"
        iyy="1.29791999999999E-08"
        iyz="1.65436122510606E-24"
        izz="9.04800000000022E-09" />
    </inertial>
    <visual>
      <origin
        xyz="0 0 0"
        rpy="0 0 0" />
      <geometry>
        <mesh
          filename="../meshes/freedom_left_hand/l_f_link4_pad.STL" />
      </geometry>
      <material
        name="">
        <color
          rgba="0.529411764705882 0.549019607843137 0.549019607843137 1" />
      </material>
    </visual>
    <collision>
      <origin
        xyz="0 0 0"
        rpy="0 0 0" />
      <geometry>
        <mesh
          filename="../meshes/freedom_left_hand/l_f_link4_pad.STL" />
      </geometry>
    </collision>
  </link>
  <joint
    name="l_f_joint4_pad"
    type="fixed">
    <origin
      xyz="0.043177 0.0034683 1.9227E-05"
      rpy="0 0 -0.24109" />
    <parent
      link="l_f_link4_3" />
    <child
      link="l_f_link4_pad" />
    <axis
      xyz="0 0 0" />
  </joint>
  <link
    name="l_f_link5_1">
    <inertial>
      <origin
        xyz="0.0043154953169299 -3.59544548608343E-05 -0.00029351958150094"
        rpy="0 0 0" />
      <mass
        value="0.01220067525638" />
      <inertia
        ixx="1.76157556392802E-07"
        ixy="-1.18013880311382E-11"
        ixz="5.12581897126776E-08"
        iyy="6.86901221323969E-07"
        iyz="-5.70496565127423E-13"
        izz="6.04592917607103E-07" />
    </inertial>
    <visual>
      <origin
        xyz="0 0 0"
        rpy="0 0 0" />
      <geometry>
        <mesh
          filename="../meshes/freedom_left_hand/l_f_link5_1.STL" />
      </geometry>
      <material
        name="">
        <color
          rgba="0.529411764705882 0.549019607843137 0.549019607843137 1" />
      </material>
    </visual>
    <collision>
      <origin
        xyz="0 0 0"
        rpy="0 0 0" />
      <geometry>
        <mesh
          filename="../meshes/freedom_left_hand/l_f_link5_1.STL" />
      </geometry>
    </collision>
  </link>
  <joint
    name="l_f_joint5_1"
    type="fixed">
    <origin
      xyz="-0.0011601 0.035276 0.1069"
      rpy="-0.67227 -1.5707 -2.4693" />
    <parent
      link="l_p_link1" />
    <child
      link="l_f_link5_1" />
    <axis
      xyz="0 0 0" />
  </joint>
  <link
    name="l_f_link5_2">
    <inertial>
      <origin
        xyz="0.0104118354940771 0.000536686610706119 -1.7671378069184E-07"
        rpy="0 0 0" />
      <mass
        value="0.0784310054996277" />
      <inertia
        ixx="3.68968904398335E-06"
        ixy="3.628469081211E-07"
        ixz="2.16090077583522E-10"
        iyy="1.11655087077358E-05"
        iyz="-8.17126072260097E-11"
        izz="1.11880378623024E-05" />
    </inertial>
    <visual>
      <origin
        xyz="0 0 0"
        rpy="0 0 0" />
      <geometry>
        <mesh
          filename="../meshes/freedom_left_hand/l_f_link5_2.STL" />
      </geometry>
      <material
        name="">
        <color
          rgba="0.792156862745098 0.819607843137255 0.933333333333333 1" />
      </material>
    </visual>
    <collision>
      <origin
        xyz="0 0 0"
        rpy="0 0 0" />
      <geometry>
        <mesh
          filename="../meshes/freedom_left_hand/l_f_link5_2.STL" />
      </geometry>
    </collision>
  </link>
  <joint
    name="l_f_joint5_2"
    type="fixed">
    <origin
      xyz="0.007 0 0.0021"
      rpy="1.5708 0 0" />
    <parent
      link="l_f_link5_1" />
    <child
      link="l_f_link5_2" />
    <axis
      xyz="0 0 1" />
    <limit
      lower="0"
      upper="1.396"
      effort="10"
      velocity="1.5" />
  </joint>
  <link
    name="l_f_link5_3">
    <inertial>
      <origin
        xyz="0.0254045502583316 -0.00109875956477253 -1.02524869180082E-05"
        rpy="0 0 0" />
      <mass
        value="0.0416862699520771" />
      <inertia
        ixx="1.9798564773289E-06"
        ixy="2.09081669243835E-06"
        ixz="-5.67528298552423E-09"
        iyy="1.00738200708542E-05"
        iyz="1.69867485826077E-09"
        izz="1.02474541643006E-05" />
    </inertial>
    <visual>
      <origin
        xyz="0 0 0"
        rpy="0 0 0" />
      <geometry>
        <mesh
          filename="../meshes/freedom_left_hand/l_f_link5_3.STL" />
      </geometry>
      <material
        name="">
        <color
          rgba="0.792156862745098 0.819607843137255 0.933333333333333 1" />
      </material>
    </visual>
    <collision>
      <origin
        xyz="0 0 0"
        rpy="0 0 0" />
      <geometry>
        <mesh
          filename="../meshes/freedom_left_hand/l_f_link5_3.STL" />
      </geometry>
    </collision>
  </link>
  <joint
    name="l_f_joint5_3"
    type="fixed">
    <origin
      xyz="0.032003 -0.0025 0"
      rpy="0 0 0.41015" />
    <parent
      link="l_f_link5_2" />
    <child
      link="l_f_link5_3" />
    <axis
      xyz="0 0 1" />
    <limit
      lower="0"
      upper="1.204"
      effort="10"
      velocity="1.5" />
  </joint>
  <link
    name="l_f_link5_tip">
    <inertial>
      <origin
        xyz="-2.699511644777E-08 -2.10908376180319E-09 5.39488911877051E-10"
        rpy="0 0 0" />
      <mass
        value="5.6447341057419E-05" />
      <inertia
        ixx="3.25128781384418E-11"
        ixy="-9.63510103313278E-17"
        ixz="-2.4387554242068E-17"
        iyy="3.25152508484699E-11"
        iyz="6.24021631056491E-16"
        izz="3.25128741141513E-11" />
    </inertial>
    <visual>
      <origin
        xyz="0 0 0"
        rpy="0 0 0" />
      <geometry>
        <mesh
          filename="../meshes/freedom_left_hand/l_f_link5_tip.STL" />
      </geometry>
      <material
        name="">
        <color
          rgba="0.529411764705882 0.549019607843137 0.549019607843137 1" />
      </material>
    </visual>
    <collision>
      <origin
        xyz="0 0 0"
        rpy="0 0 0" />
      <geometry>
        <mesh
          filename="../meshes/freedom_left_hand/l_f_link5_tip.STL" />
      </geometry>
    </collision>
  </link>
  <joint
    name="l_f_joint5_tip"
    type="fixed">
    <origin
      xyz="0.054675 -0.004571 1.9227E-05"
      rpy="0 0 0" />
    <parent
      link="l_f_link5_3" />
    <child
      link="l_f_link5_tip" />
    <axis
      xyz="0 0 0" />
  </joint>
  <link
    name="l_f_link5_pad">
    <inertial>
      <origin
        xyz="8.32667268468867E-17 5.20417042793042E-17 0"
        rpy="0 0 0" />
      <mass
        value="0.000748799999999953" />
      <inertia
        ixx="4.05599999999977E-09"
        ixy="1.89398510880501E-22"
        ixz="3.02954899347546E-23"
        iyy="1.29791999999999E-08"
        iyz="-7.03103520670074E-24"
        izz="9.04800000000019E-09" />
    </inertial>
    <visual>
      <origin
        xyz="0 0 0"
        rpy="0 0 0" />
      <geometry>
        <mesh
          filename="../meshes/freedom_left_hand/l_f_link5_pad.STL" />
      </geometry>
      <material
        name="">
        <color
          rgba="0.529411764705882 0.549019607843137 0.549019607843137 1" />
      </material>
    </visual>
    <collision>
      <origin
        xyz="0 0 0"
        rpy="0 0 0" />
      <geometry>
        <mesh
          filename="../meshes/freedom_left_hand/l_f_link5_pad.STL" />
      </geometry>
    </collision>
  </link>
  <joint
    name="l_f_joint5_pad"
    type="fixed">
    <origin
      xyz="0.043177 0.0034683 1.9227E-05"
      rpy="0 0 -0.24109" />
    <parent
      link="l_f_link5_3" />
    <child
      link="l_f_link5_pad" />
    <axis
      xyz="0 0 0" />
  </joint>
</robot>
